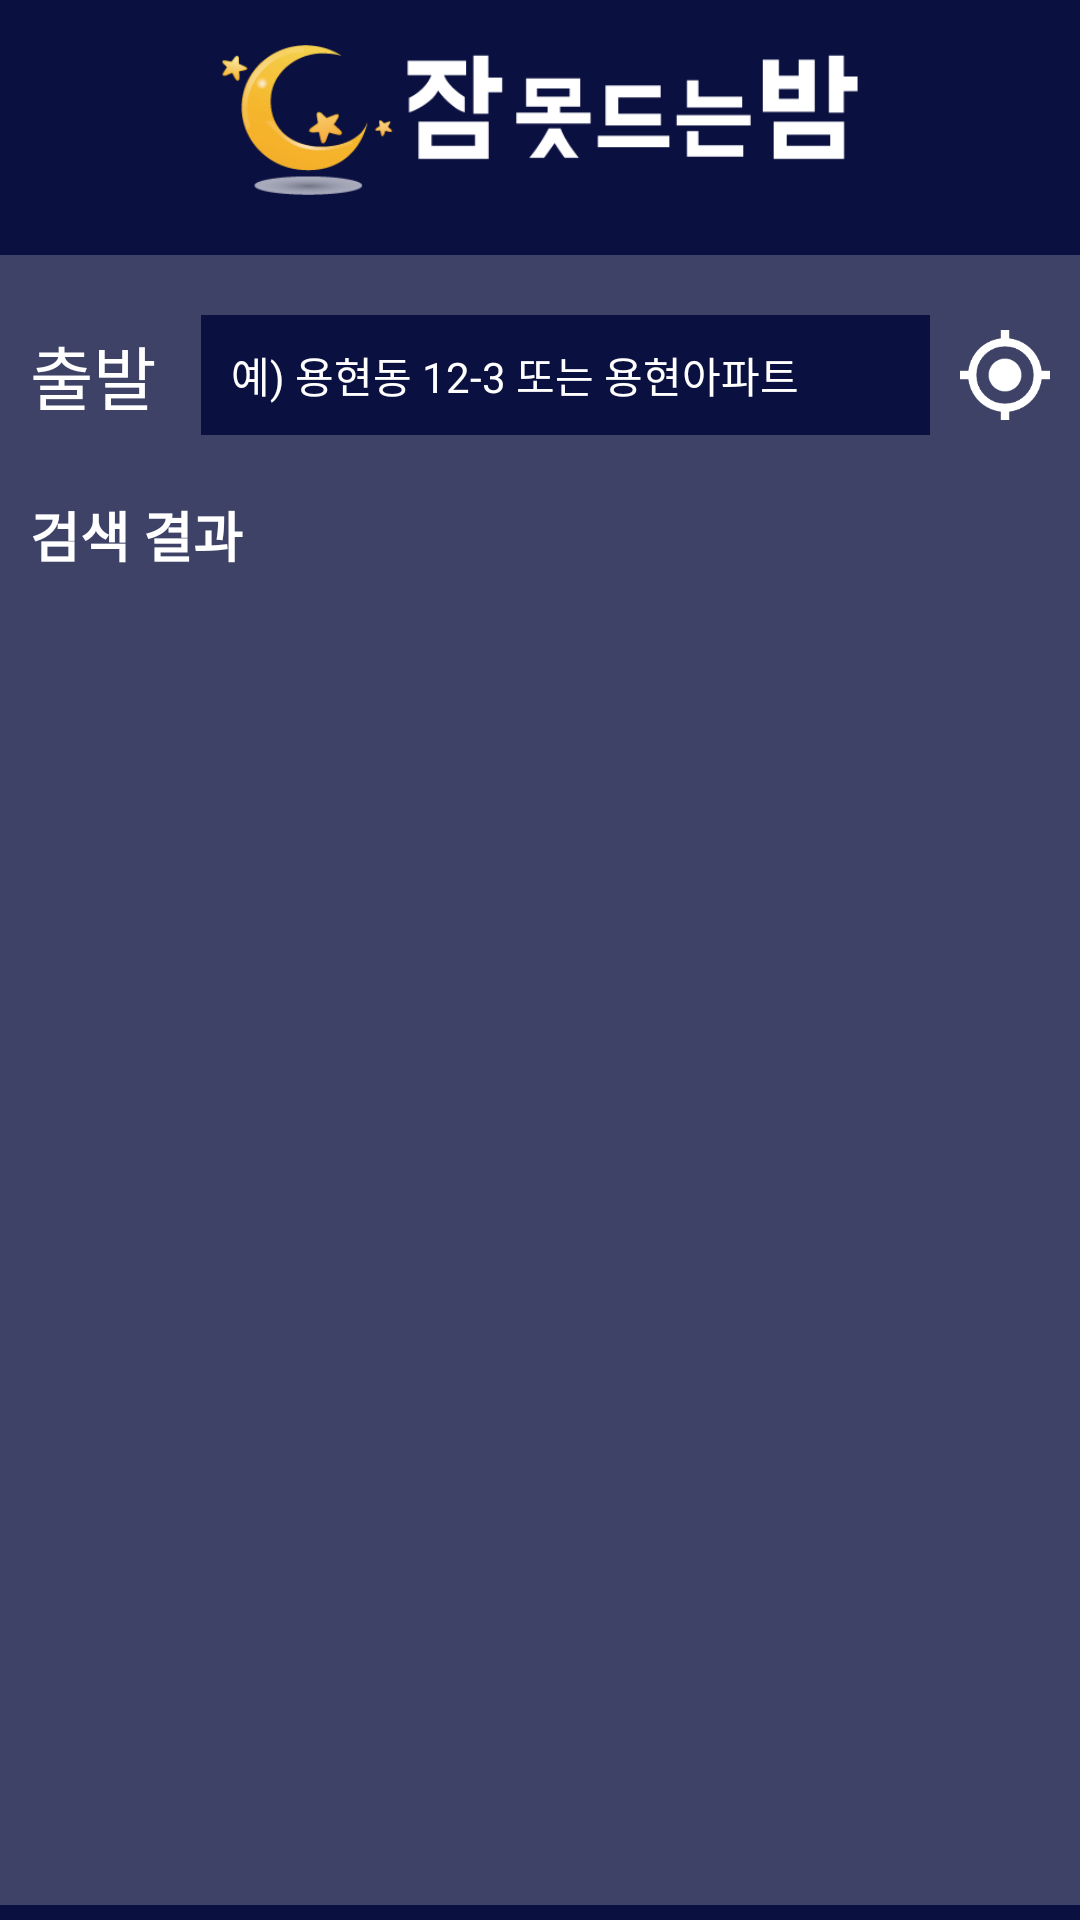

Icon click points for this 1080px×1920px phone screenshot, format (x=x, y=y):
present location: (x=1005, y=375)
